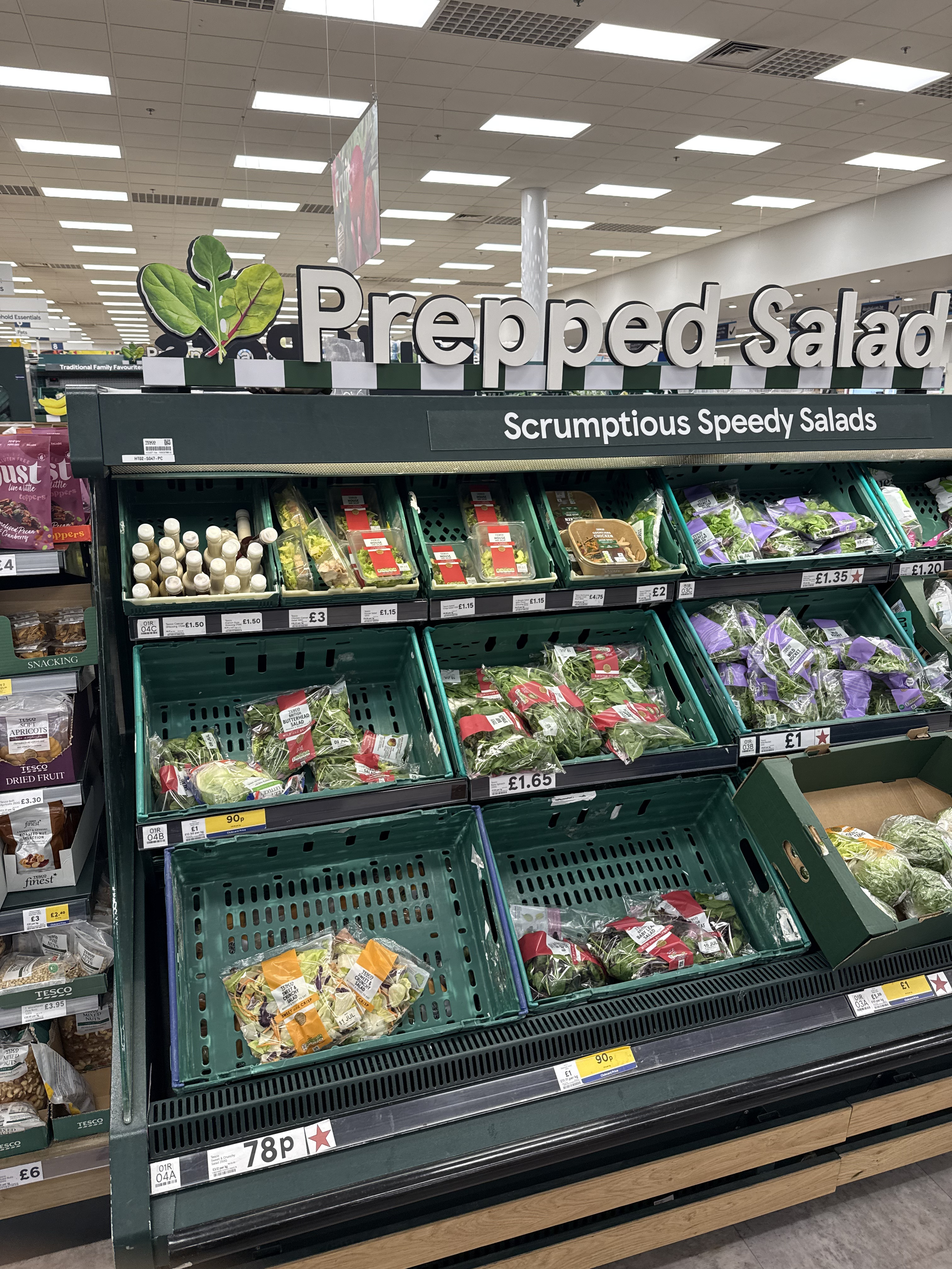large: (207, 1127, 309, 1181)
medium: (489, 771, 555, 797), (800, 567, 864, 588), (761, 730, 816, 754), (899, 562, 943, 576)
small: (552, 1046, 637, 1091), (182, 810, 266, 842), (865, 975, 935, 1012), (0, 1162, 43, 1190), (23, 905, 69, 931), (22, 999, 67, 1024), (0, 789, 44, 813), (162, 614, 206, 637), (221, 612, 263, 634), (289, 607, 327, 630), (360, 603, 397, 624), (440, 597, 475, 619), (512, 593, 546, 613), (636, 583, 668, 603), (572, 589, 605, 608)
